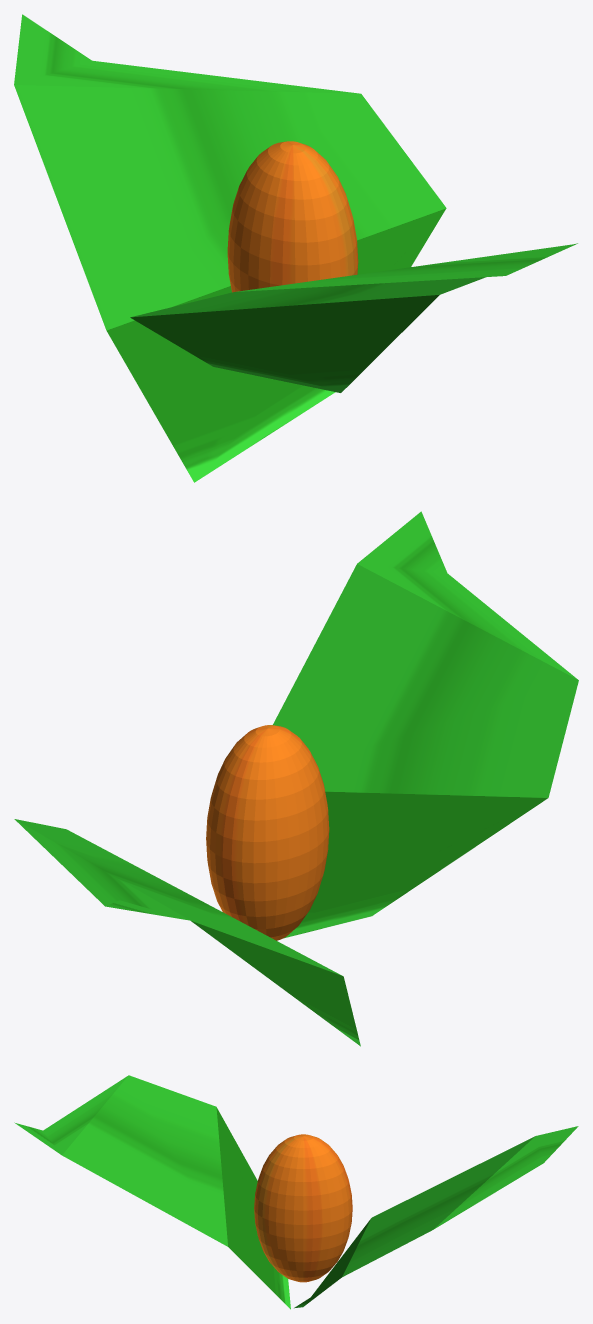
File: food.glb
3 views of the same model, one above another, from view 1: azimuth 30°, elevation 25°; view 2: azimuth 150°, elevation 25°; view 3: azimuth 270°, elevation 25° (orthographic). The views are drawn at different scales.
Parts seen in each view (by area): view 1: Plane.001, Plane, Sphere; view 2: Plane, Sphere, Plane.001; view 3: Plane, Sphere, Plane.001.
Boxes of the visible parts, x1=… form: Plane.001: x1=14, y1=14, x2=446, y2=482; Plane: x1=130, y1=243, x2=577, y2=392; Sphere: x1=227, y1=141, x2=358, y2=292; Plane: x1=273, y1=511, x2=578, y2=938; Sphere: x1=206, y1=725, x2=329, y2=940; Plane.001: x1=14, y1=819, x2=360, y2=1046; Plane: x1=14, y1=1075, x2=290, y2=1309; Sphere: x1=254, y1=1134, x2=352, y2=1282; Plane.001: x1=294, y1=1126, x2=578, y2=1308.
Size of the model in its own units: 2.43 by 2.05 by 4.46.
Materials: 3 (3 with a texture image).
